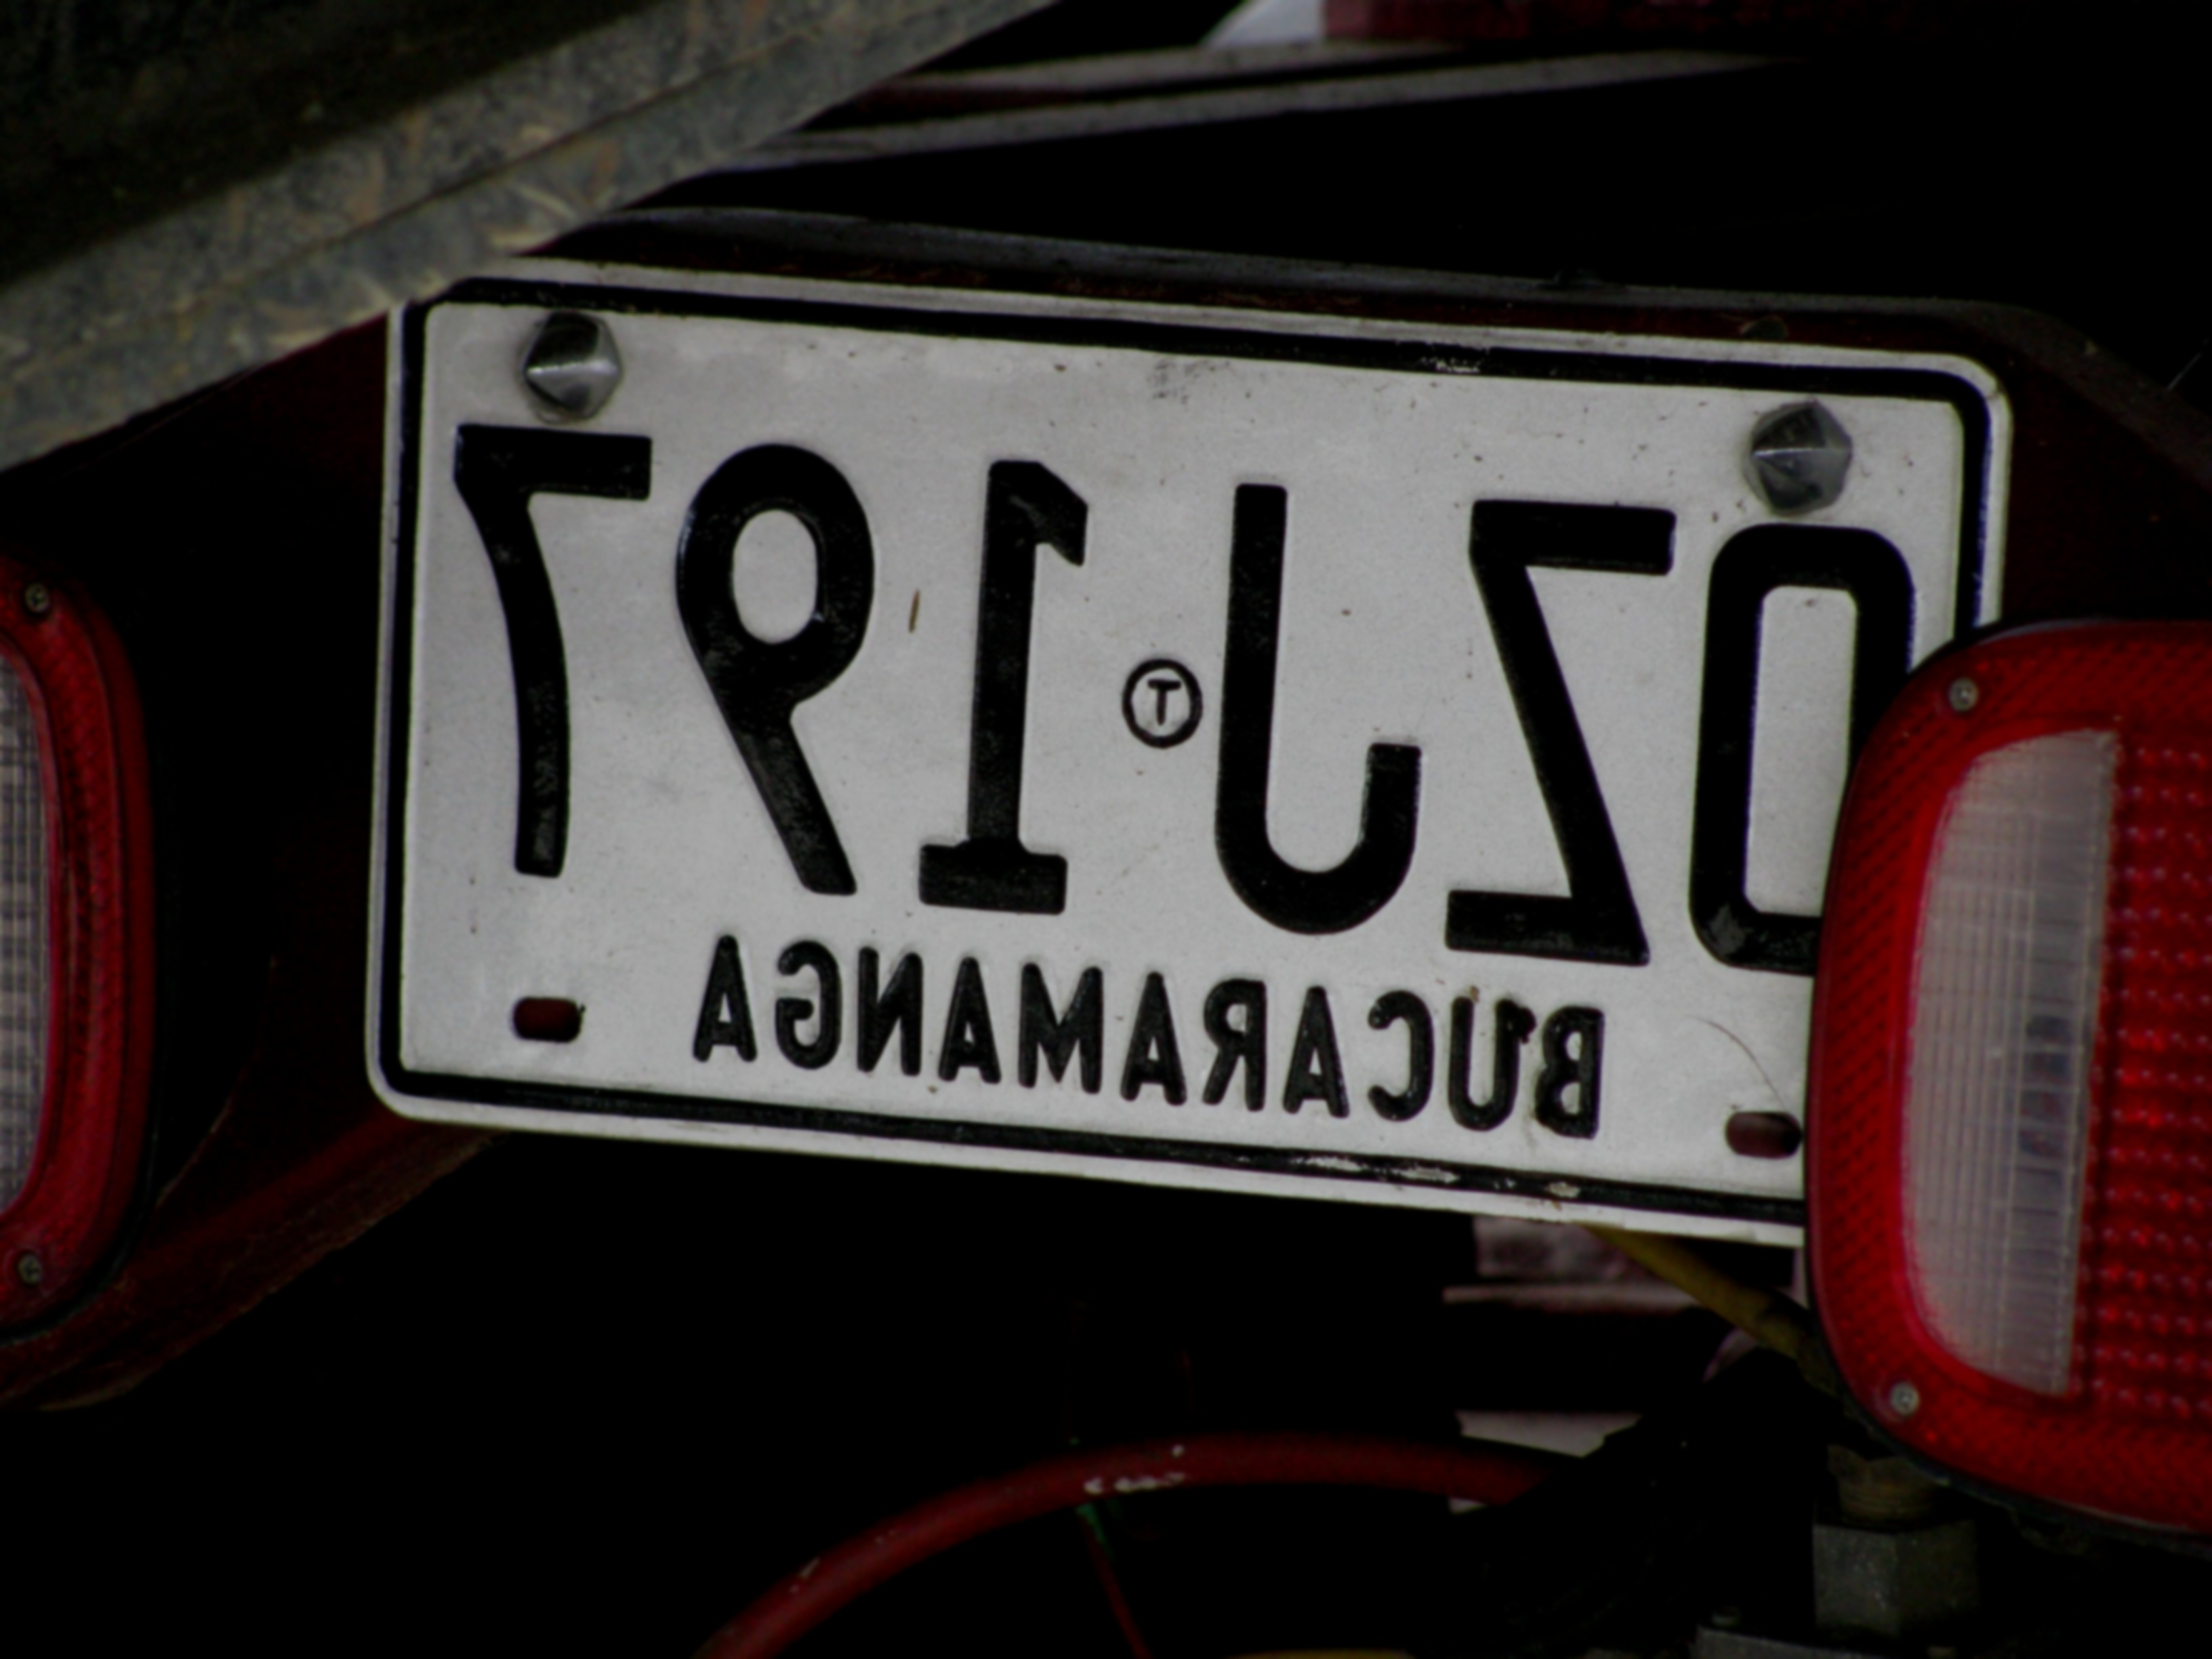placas: (359, 239, 2024, 1249)
